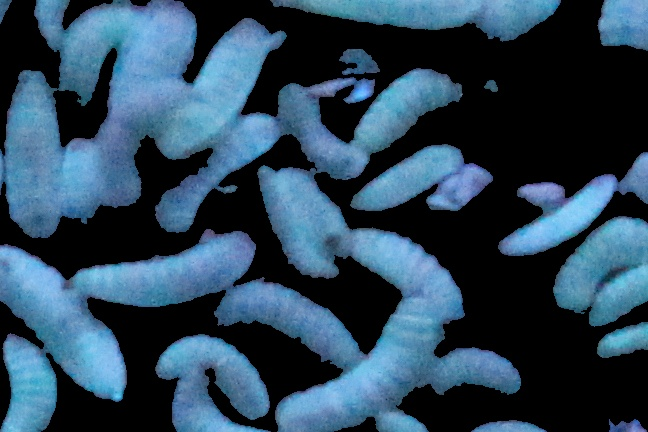larvae: (274, 295, 452, 432), (1, 246, 127, 401), (156, 109, 282, 234), (161, 21, 274, 156), (216, 278, 365, 367), (76, 231, 253, 302), (104, 1, 196, 126), (350, 226, 463, 317), (155, 333, 268, 420), (499, 175, 614, 255), (254, 168, 337, 277), (553, 219, 648, 313), (7, 71, 59, 240), (355, 68, 461, 150), (277, 83, 361, 179), (56, 4, 137, 100), (352, 143, 466, 211), (278, 169, 353, 257), (172, 374, 269, 432), (3, 335, 59, 432), (52, 138, 104, 224), (437, 345, 522, 396), (587, 267, 648, 326), (599, 324, 648, 362)
